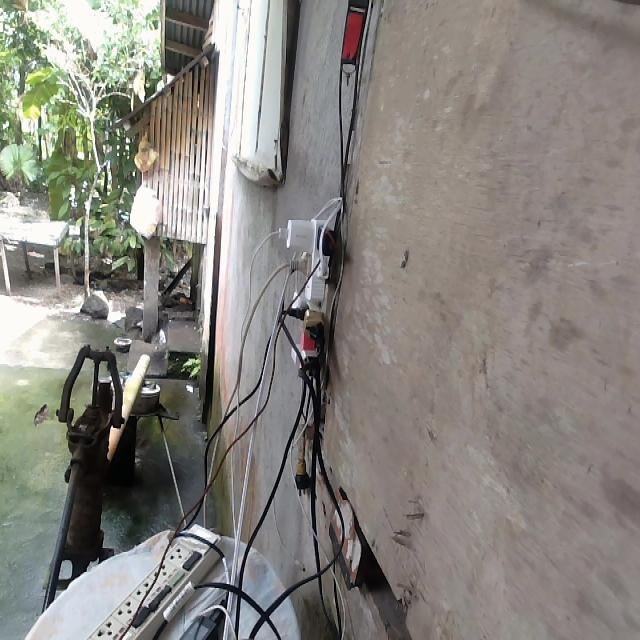-: (268, 209, 345, 383)
